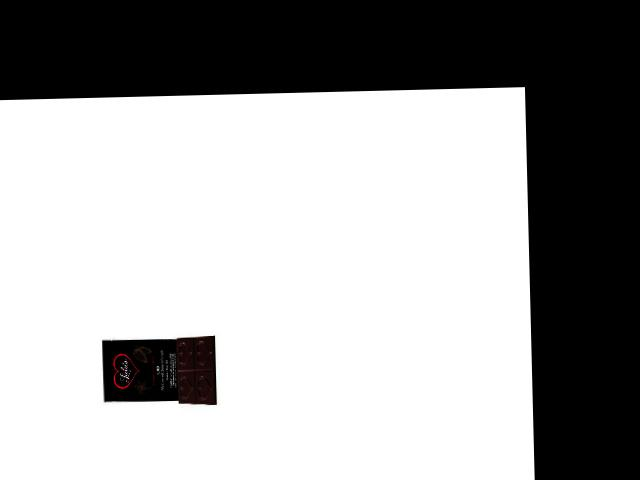chocolate: (101, 333, 221, 412)
